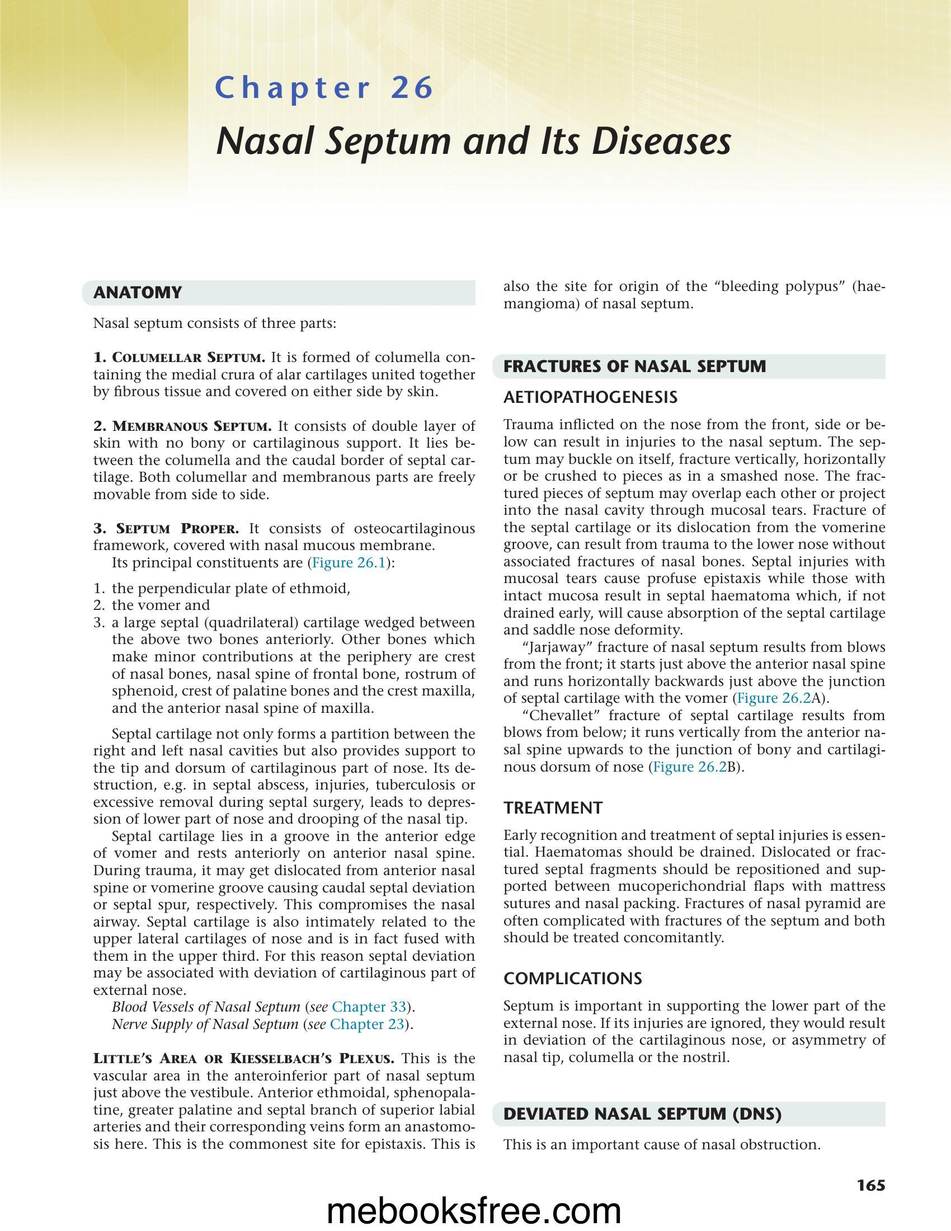chapter-heading: (214, 124, 733, 165)
list: (91, 351, 476, 552), (92, 580, 477, 718)
section-heading: (503, 1106, 782, 1125), (502, 358, 767, 373), (92, 285, 183, 299)
sub-section-heading: (502, 389, 678, 404), (503, 970, 643, 986), (502, 799, 604, 815)
text: (502, 416, 887, 777), (92, 726, 477, 1035), (503, 828, 887, 947), (92, 1051, 478, 1154), (503, 998, 887, 1067), (502, 278, 885, 313), (501, 1138, 821, 1154), (111, 555, 396, 572), (92, 316, 336, 332)
